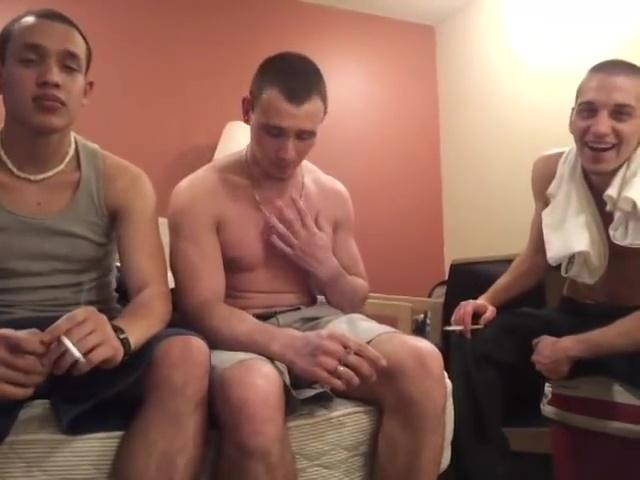cigarette: (59, 335, 87, 366), (442, 322, 487, 332)
